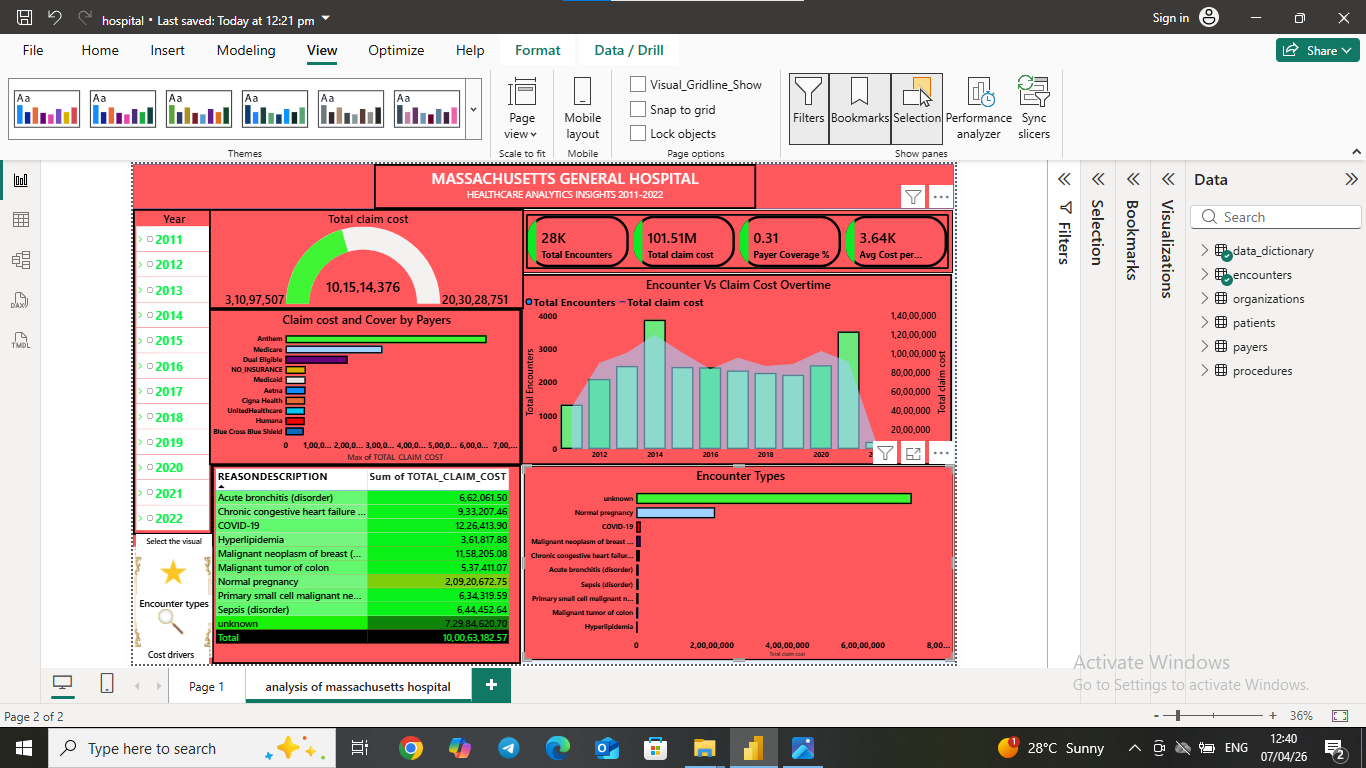

Layout of this report page (visuals, bound fields, positions):
{"tool":"powerbi","page":{"name":"analysis  of massachusetts hospital","canvas":[2300,1400],"ordinal":1},"visuals":[{"type":"shape","box":[0,0,222.3,1401.3],"z":0},{"type":"image","box":[64.5,1104.9,96.6,70.9],"z":0,"group":"g1"},{"type":"image","box":[41.9,1246.6,128.9,70.9],"z":0,"group":"g2"},{"type":"shape","box":[0,0,2298.8,126],"z":1000},{"type":"textbox","box":[9.7,1204.8,212.6,77.3],"z":1000,"group":"g1"},{"type":"textbox","box":[0,1352.9,212.6,48.3],"z":1000,"group":"g2"},{"type":"cardVisual","fields":{"Data":["data_dictionary.Total Encounters","data_dictionary.Total claim cost","data_dictionary.Payer Coverage %","data_dictionary.Avg Cost per Encounter"]},"box":[1086.4,126,1212.4,182],"z":2000},{"type":"listSlicer","fields":{"Values":["encounters.start date.Variation.Date Hierarchy.Year","encounters.start date.Variation.Date Hierarchy.Month"]},"box":[0,125.6,222.3,911.6],"z":3000},{"type":"textbox","box":[674.8,0,1069.6,126],"z":4000},{"type":"lineStackedColumnComboChart","title":"Encounter Vs Claim Cost Overtime","fields":{"Category":["encounters.start date.Variation.Date Hierarchy.Year","encounters.start date.Variation.Date Hierarchy.Month"],"Y":["data_dictionary.Total Encounters"],"Y2":["data_dictionary.Total claim cost"]},"box":[1085.2,307.7,1206.7,534.5],"z":5000},{"type":"donutChart","title":"Encounter types and Cost Drivers","fields":{"Category":["encounters.ENCOUNTERCLASS"],"Y":["data_dictionary.Total Encounters"]},"box":[1086.4,842.8,1206.8,557.2],"z":6000},{"type":"clusteredBarChart","title":"Claim cost and Cover by Payers","fields":{"Category":["payers.NAME"],"Y":["Max(encounters.TOTAL_CLAIM_COST)"]},"box":[212.8,406,873.6,436.8],"z":8000},{"type":"tableEx","fields":{"Values":["encounters.REASONDESCRIPTION","Sum(encounters.TOTAL_CLAIM_COST)"]},"box":[221.2,842.8,865.2,557.2],"z":9000},{"type":"gauge","title":"Total claim cost ","fields":{"Y":["data_dictionary.Total claim cost"],"MinValue":["data_dictionary.Total Payer Coverage"]},"box":[212.8,126,882,280],"z":10000},{"type":"image","box":[0,1053.4,222.3,347.9],"z":12000},{"type":"textbox","box":[9.7,1037.3,212.6,64.4],"z":13000},{"type":"group","id":"g1","title":"encounter type group","box":[9.7,1104.9,212.6,177.2],"z":14000},{"type":"group","id":"g2","title":"cost group","box":[0,1246.6,212.6,154.6],"z":15000}]}

Visuals, with their boxes on the page's 2300x1400 design canvas (x1, y1, x2, y2). These are canvas units, not pixel positions in the 1366x768 screenshot, which may show the page scaled, cropped or inside an application window:
shape: left=0, top=0, right=222, bottom=1401
image: left=64, top=1105, right=161, bottom=1176
image: left=42, top=1247, right=171, bottom=1318
shape: left=0, top=0, right=2299, bottom=126
textbox: left=10, top=1205, right=222, bottom=1282
textbox: left=0, top=1353, right=213, bottom=1401
cardVisual - data_dictionary.Total Encounters x data_dictionary.Total claim cost: left=1086, top=126, right=2299, bottom=308
listSlicer - encounters.start date.Variation.Date Hierarchy.Year x encounters.start date.Variation.Date Hierarchy.Month: left=0, top=126, right=222, bottom=1037
textbox: left=675, top=0, right=1744, bottom=126
"Encounter Vs Claim Cost Overtime" lineStackedColumnComboChart: left=1085, top=308, right=2292, bottom=842
"Encounter types and Cost Drivers" donutChart: left=1086, top=843, right=2293, bottom=1400
"Claim cost and Cover by Payers" clusteredBarChart: left=213, top=406, right=1086, bottom=843
tableEx - encounters.REASONDESCRIPTION x Sum(encounters.TOTAL_CLAIM_COST): left=221, top=843, right=1086, bottom=1400
"Total claim cost " gauge: left=213, top=126, right=1095, bottom=406
image: left=0, top=1053, right=222, bottom=1401
textbox: left=10, top=1037, right=222, bottom=1102
"encounter type group" group: left=10, top=1105, right=222, bottom=1282
"cost group" group: left=0, top=1247, right=213, bottom=1401
